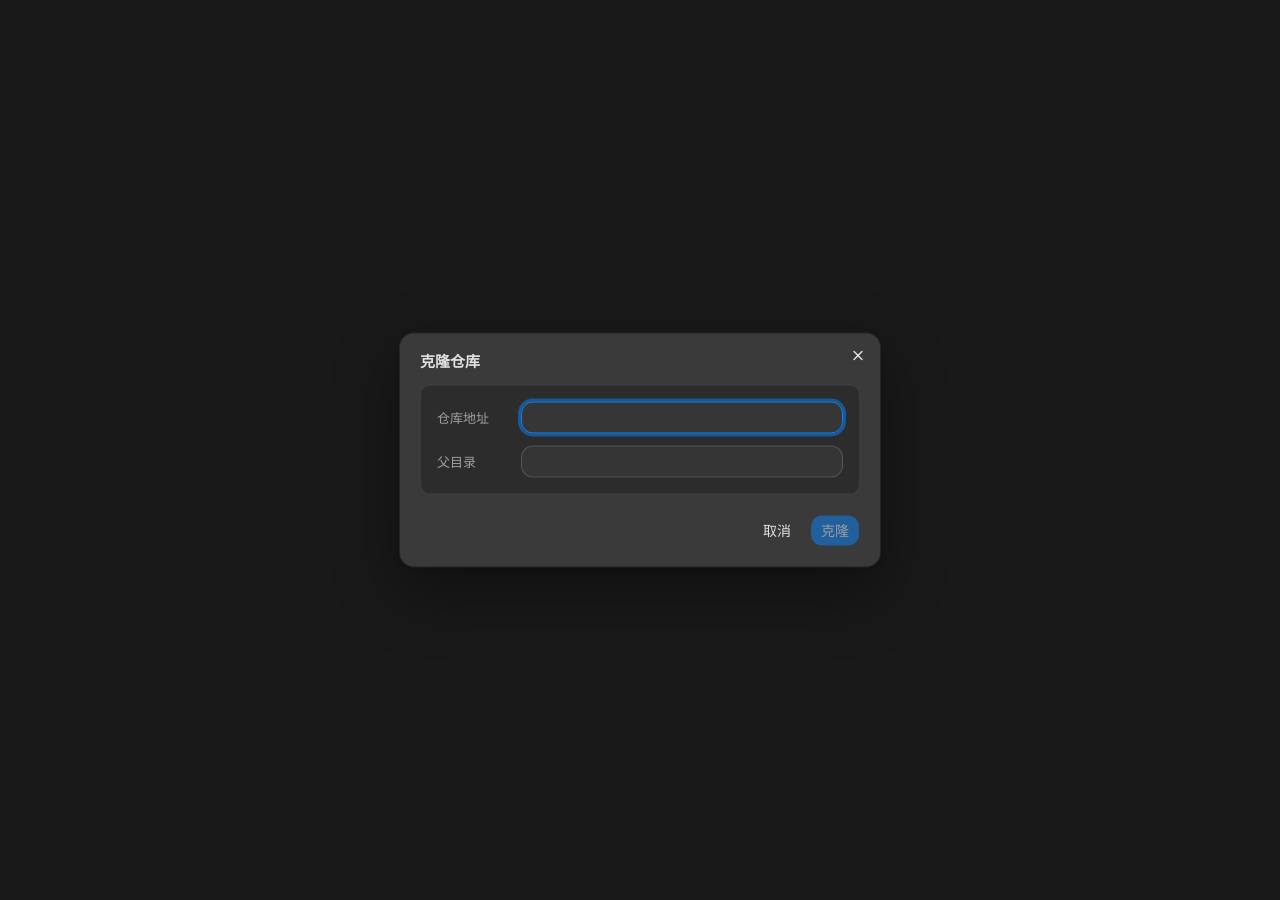
Test: CloneRepoDialog › 失败时把最后一行显示出来
In the field labelled "仓库地址": (682, 418) [521,402,843,434], type "https://example.test/missing.git"
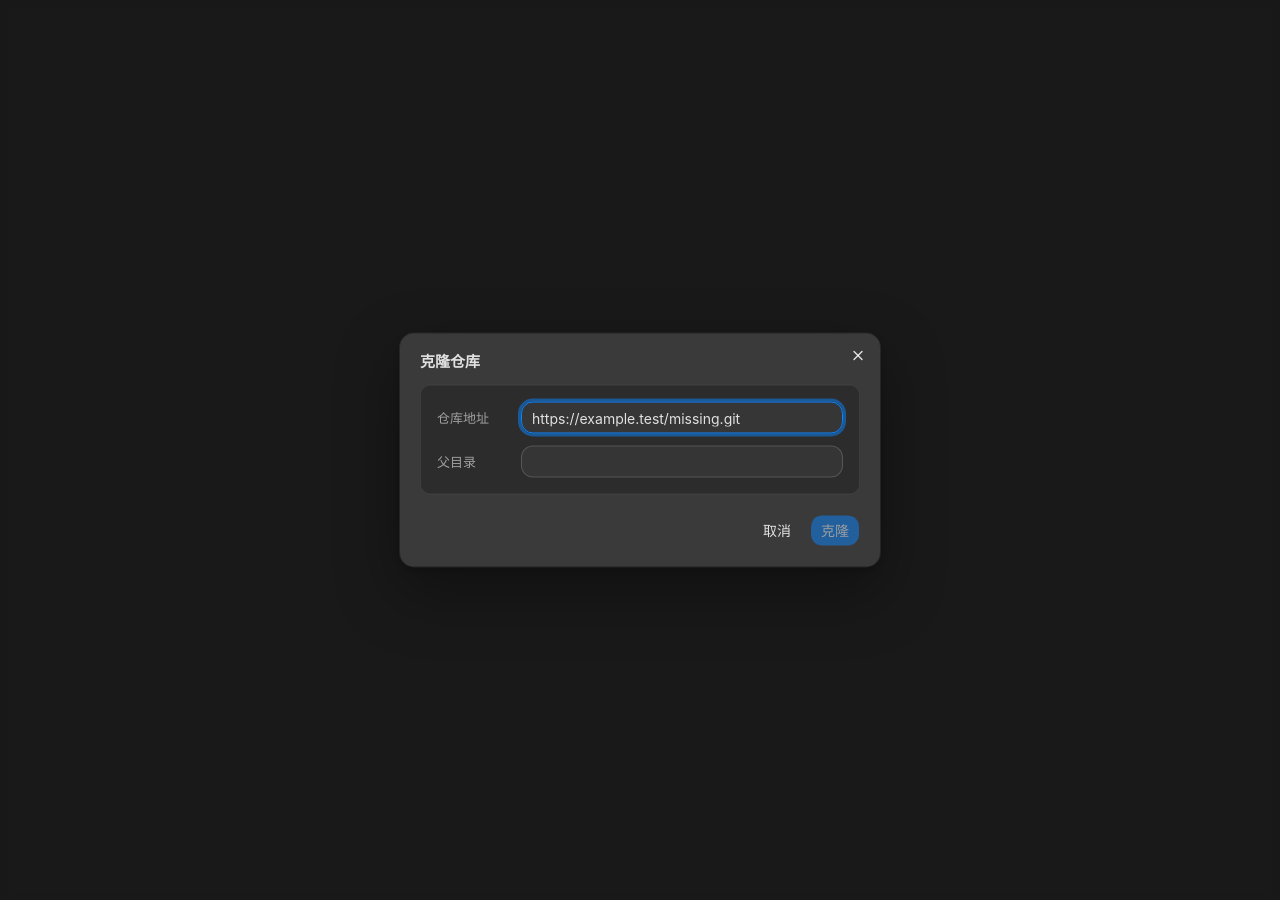
In the field labelled "父目录": (682, 462) [521,446,843,478], type "/tmp"
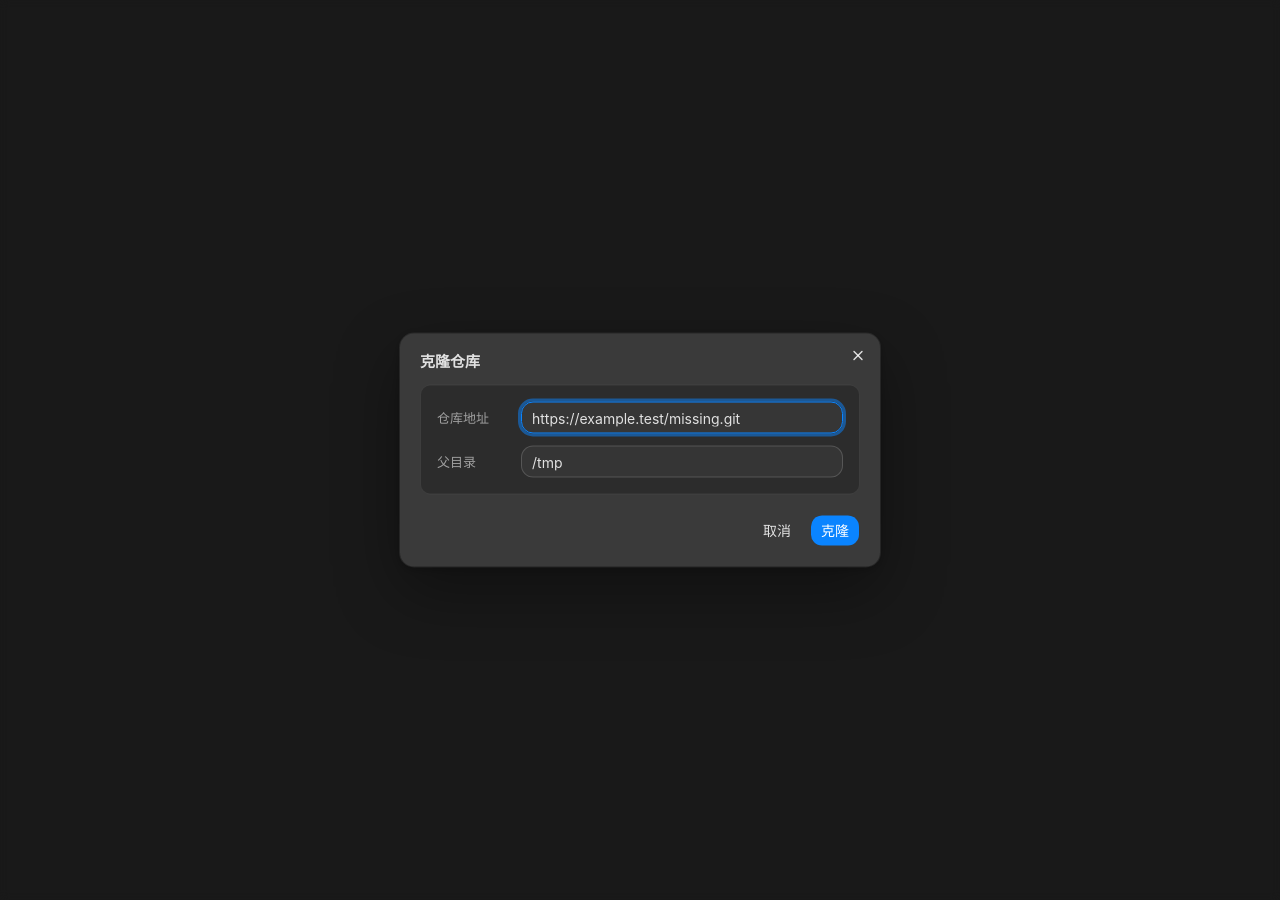
Click the button "克隆": (835, 530) [810,514,860,546]
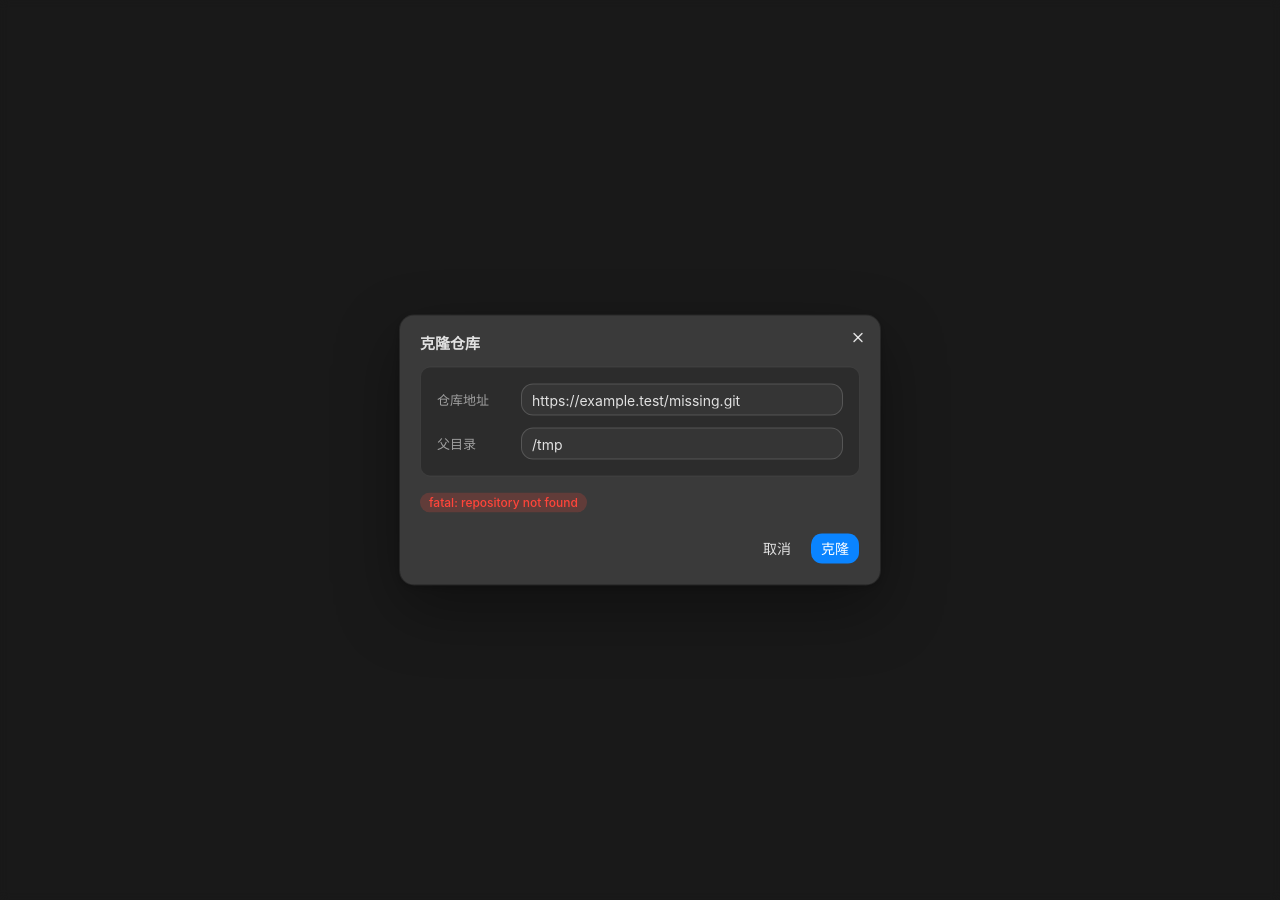
Result: the text "fatal: repository not found" is shown at [429,494,578,510]
